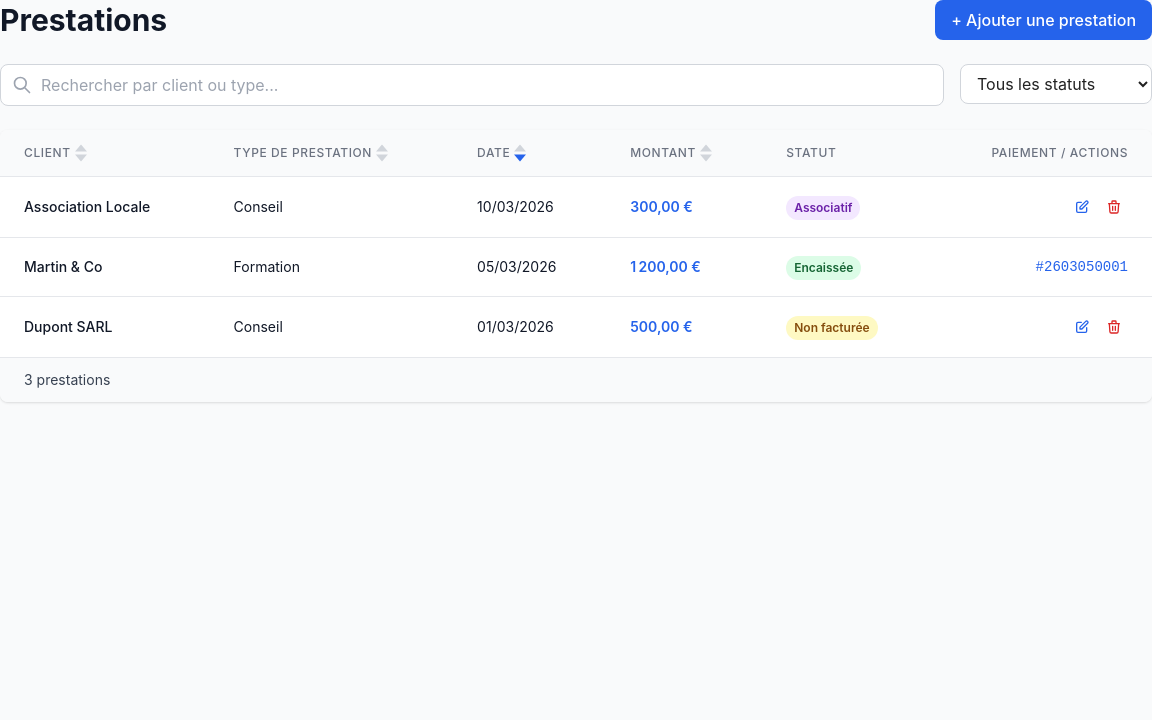
Scenario: Prestations page › opens the add modal when clicking the add button
What coordinates should you click on to do the following:
click the button "+ Ajouter une prestation"
I would click on:
 (1044, 20)
Its box is [935, 0, 1151, 40].
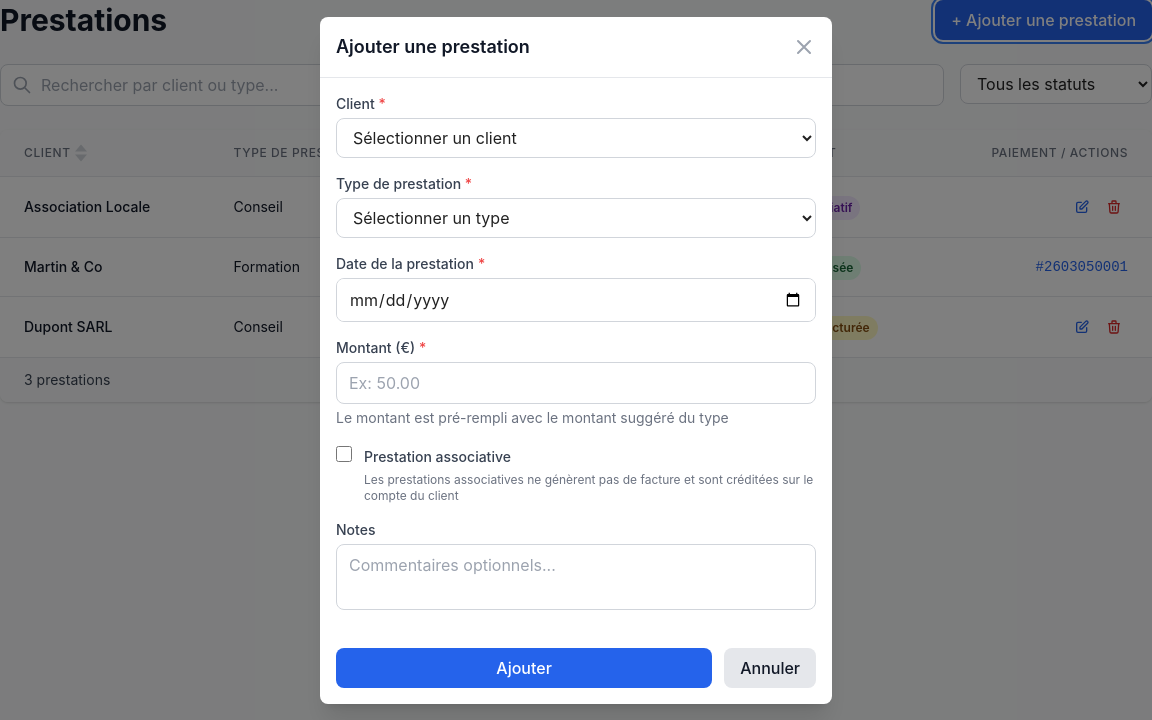
expect the heading "Ajouter une prestation" is shown: met, box [336, 32, 530, 60]
